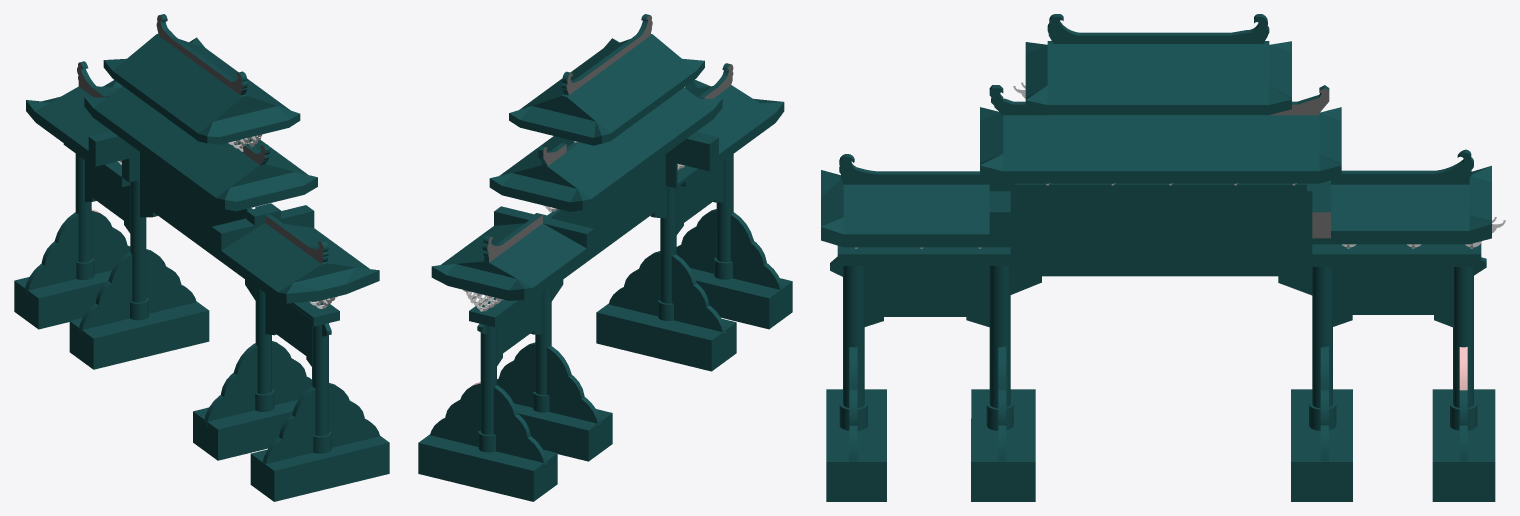
3 views of the same model, side by side, from view 1: azimuth 30°, elevation 25°; view 2: azimuth 150°, elevation 25°; view 3: azimuth 270°, elevation 25° (orthographic). The views are drawn at different scales.
Visible parts, largest first — view 1: Group_022, Group_024, Group_016, Group_017, Group_019, Group_025, Group_023, Group_021, Group_020, Layer0_001; view 2: Group_023, Group_016, Group_017, Group_025, Group_024, Group_022, Group_020, Group_021, Layer0_001, Group_019; view 3: Group_025, Group_017, Group_016, Group_019, Group_020, Group_023, Group_022, Group_024, Group_021, Layer0_001.
Boxes of the visible parts, <box> form: Group_022: <box>69,177,209,369</box>; Group_024: <box>250,311,389,501</box>; Group_016: <box>103,14,300,144</box>; Group_017: <box>84,86,317,211</box>; Group_019: <box>211,203,379,303</box>; Group_025: <box>74,131,339,359</box>; Group_023: <box>193,279,311,460</box>; Group_021: <box>24,143,130,329</box>; Group_020: <box>26,61,122,160</box>; Layer0_001: <box>14,270,111,329</box>; Group_023: <box>596,181,736,371</box>; Group_016: <box>509,14,704,145</box>; Group_017: <box>489,87,722,211</box>; Group_025: <box>469,139,723,357</box>; Group_024: <box>676,154,792,329</box>; Group_022: <box>497,280,612,461</box>; Group_020: <box>431,211,586,300</box>; Group_021: <box>430,310,547,467</box>; Layer0_001: <box>418,434,557,501</box>; Group_019: <box>672,63,784,170</box>; Group_025: <box>837,180,1481,316</box>; Group_017: <box>980,85,1341,183</box>; Group_016: <box>1025,14,1291,114</box>; Group_019: <box>821,154,1015,247</box>; Group_020: <box>1331,149,1491,244</box>; Group_023: <box>966,259,1041,501</box>; Group_022: <box>1278,267,1352,501</box>; Group_024: <box>826,256,886,501</box>; Group_021: <box>1432,257,1495,501</box>; Layer0_001: <box>1432,389,1495,461</box>.
Size of the model in its own units: 151 by 435 by 600.
